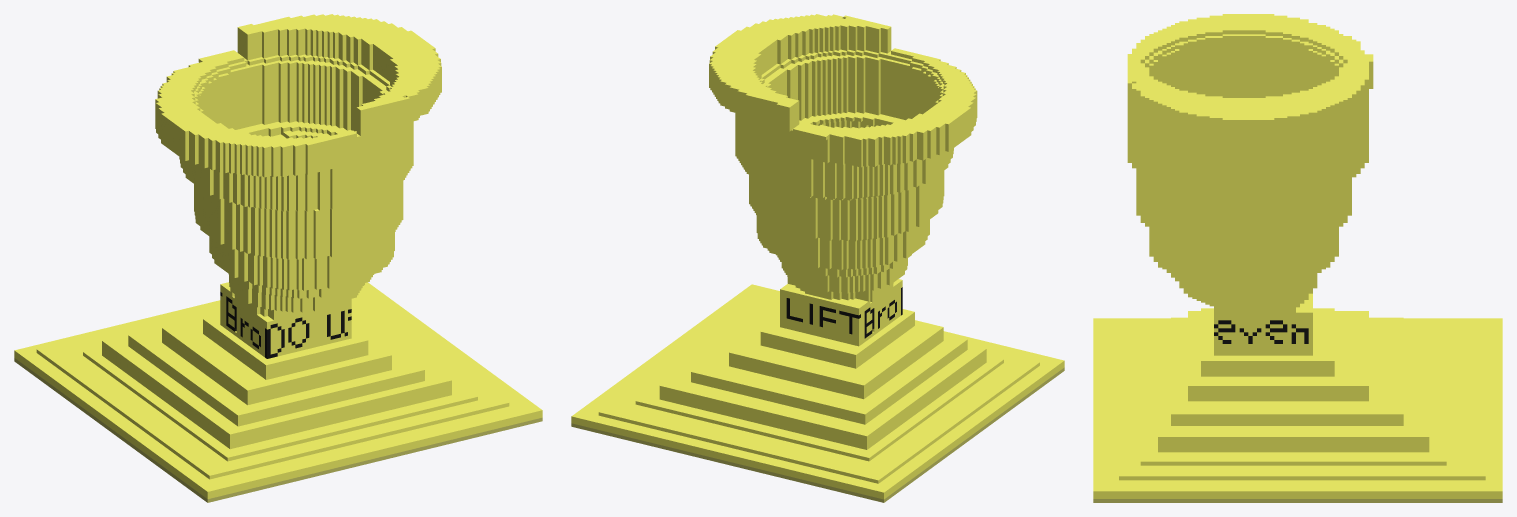
Rendered from trophy.glb.
3 views of the same model, side by side, from view 1: azimuth 30°, elevation 25°; view 2: azimuth 150°, elevation 25°; view 3: azimuth 270°, elevation 25° (orthographic). The views are drawn at different scales.
Visible parts, largest first — view 1: cup.001; view 2: cup.001; view 3: cup.001.
Part boxes in pixels (x1,y1,x2,y2): cup.001: (14,14,542,502); cup.001: (571,14,1064,502); cup.001: (1093,14,1502,502).
Bounding box in the file's own units: 9.5 × 9.2 × 9.5.
Materials: 1 (1 with a texture image).
